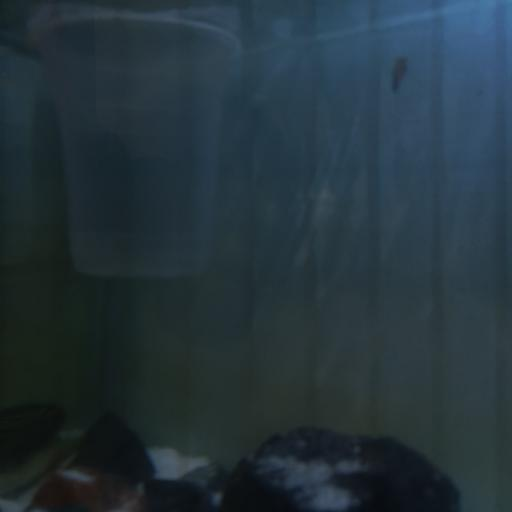plastic_cup: (32, 10, 246, 282)
